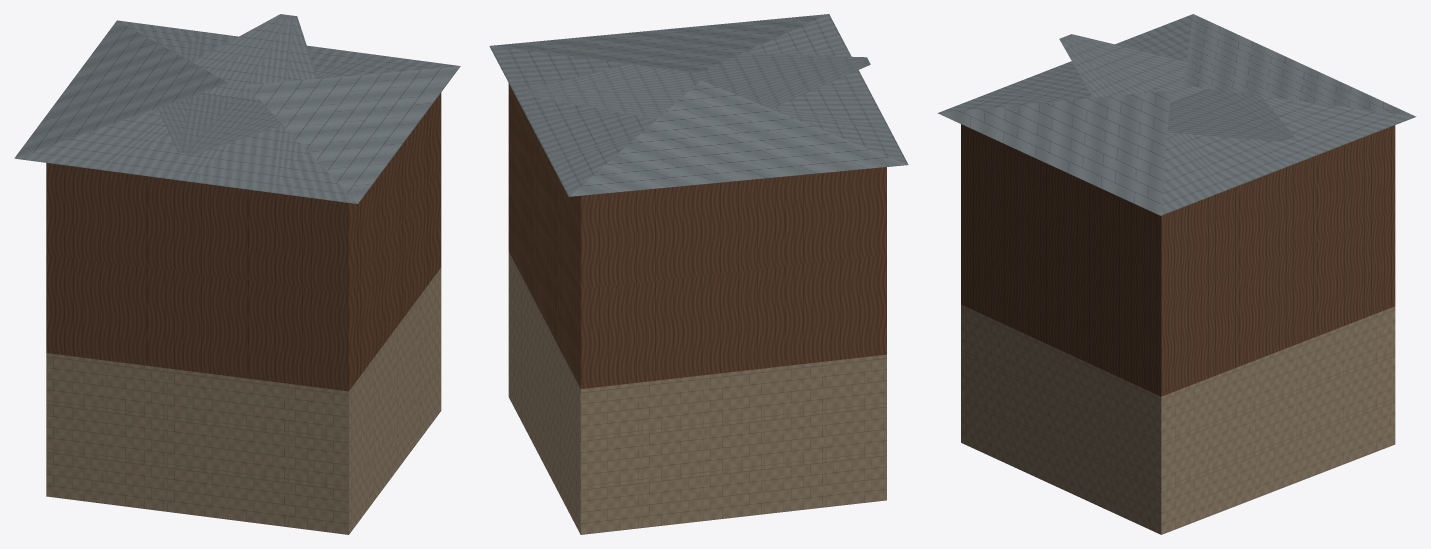
Rendered from bld_c9_6_516.gltf.
3 views of the same model, side by side, from view 1: azimuth 30°, elevation 25°; view 2: azimuth 150°, elevation 25°; view 3: azimuth 270°, elevation 25° (orthographic). The views are drawn at different scales.
Visible parts, largest first — view 1: bld_c9_6_516; view 2: bld_c9_6_516; view 3: bld_c9_6_516.
Boxes of the visible parts, left/top/right/bottom form: bld_c9_6_516: left=14, top=14, right=460, bottom=534; bld_c9_6_516: left=489, top=14, right=908, bottom=534; bld_c9_6_516: left=938, top=14, right=1416, bottom=534.
Size of the model in its own units: 15.98 by 13.1 by 16.02.
Materials: 3 (3 with a texture image).
